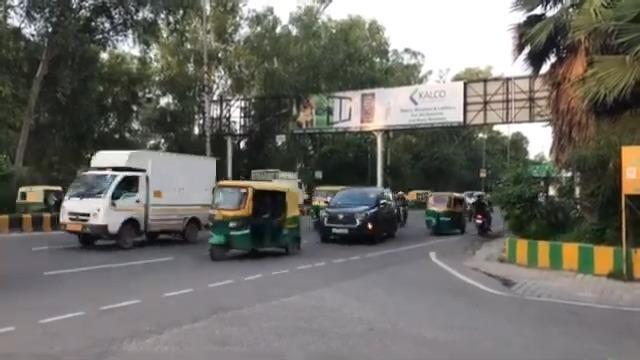Auto: (206, 178, 301, 260), (15, 185, 63, 213)
Truck: (58, 147, 217, 249)
